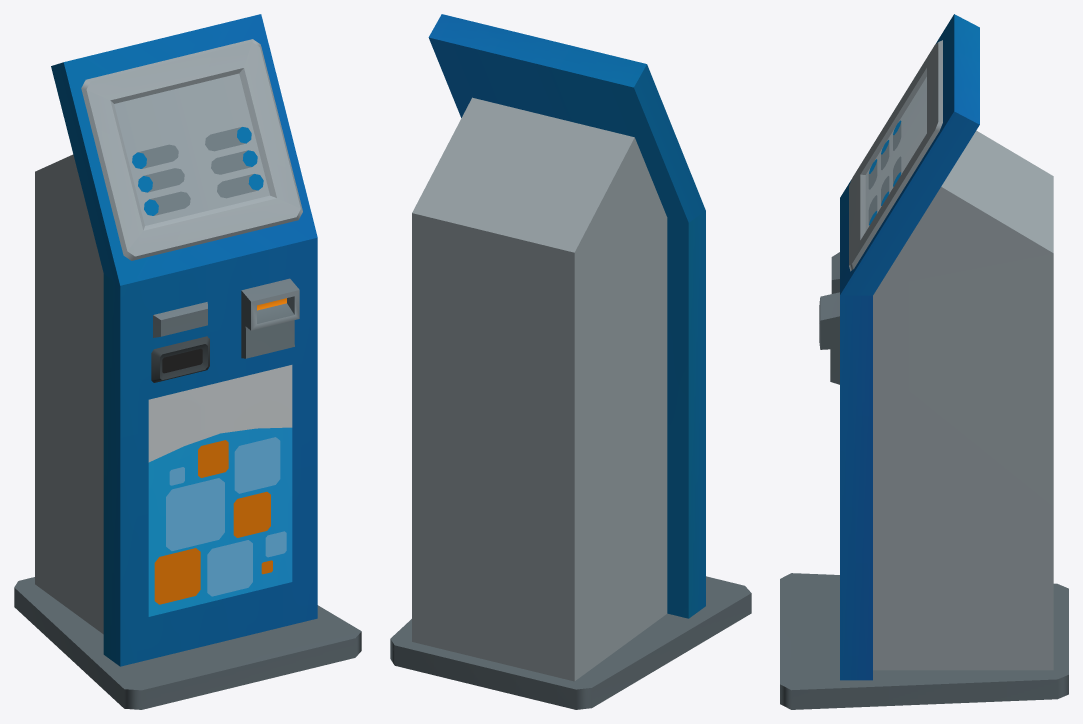
Rendered from ATM_03.glb.
3 views of the same model, side by side, from view 1: azimuth 30°, elevation 25°; view 2: azimuth 150°, elevation 25°; view 3: azimuth 270°, elevation 25° (orthographic). The views are drawn at different scales.
Visible parts, largest first — view 1: ATM_03; view 2: ATM_03; view 3: ATM_03.
Boxes of the visible parts, x1,y1,x2,y2 form: ATM_03: [14, 14, 361, 709]; ATM_03: [390, 14, 751, 709]; ATM_03: [780, 14, 1068, 709].
Size of the model in its own units: 0.6677 by 1.57 by 0.6962.
2 materials, 2 textured.
